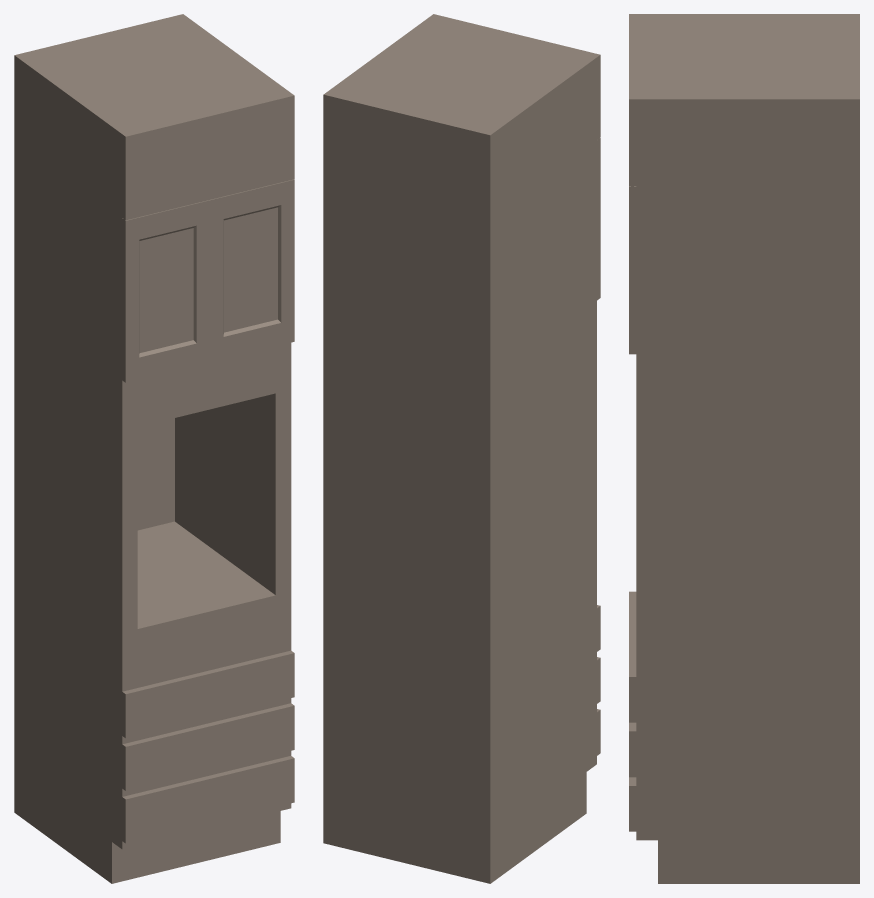
Rendered from Oven-Cabinet-24-Deep_std_001_W21in_1D.glb.
The picture shows the model from 3 angles, left to right: view 1: azimuth 30°, elevation 25°; view 2: azimuth 150°, elevation 25°; view 3: azimuth 270°, elevation 25°; orthographic projection. The views are drawn at different scales.
Parts seen in each view (by area): view 1: Oven-Cabinet-24-Deep.std.001_W21in_1D; view 2: Oven-Cabinet-24-Deep.std.001_W21in_1D; view 3: Oven-Cabinet-24-Deep.std.001_W21in_1D.
Part boxes in pixels (left/top/right/bottom): Oven-Cabinet-24-Deep.std.001_W21in_1D: left=14, top=14, right=294, bottom=883; Oven-Cabinet-24-Deep.std.001_W21in_1D: left=323, top=14, right=600, bottom=883; Oven-Cabinet-24-Deep.std.001_W21in_1D: left=629, top=14, right=859, bottom=883.
Size of the model in its own units: 0.5334 by 2.29 by 0.6096.
